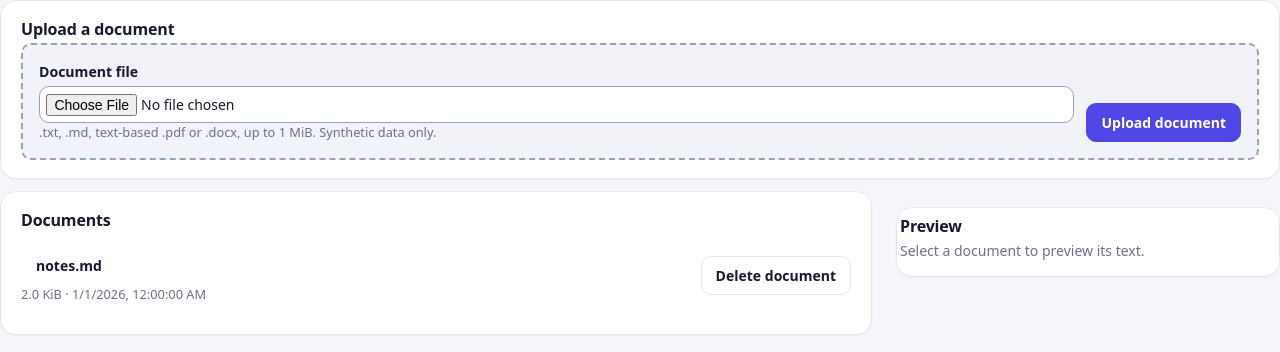
Test: DocumentsSection › shows no extraction note for plain text documents
Click the button "notes.md": x=69, y=266 21,246 -> 117,285
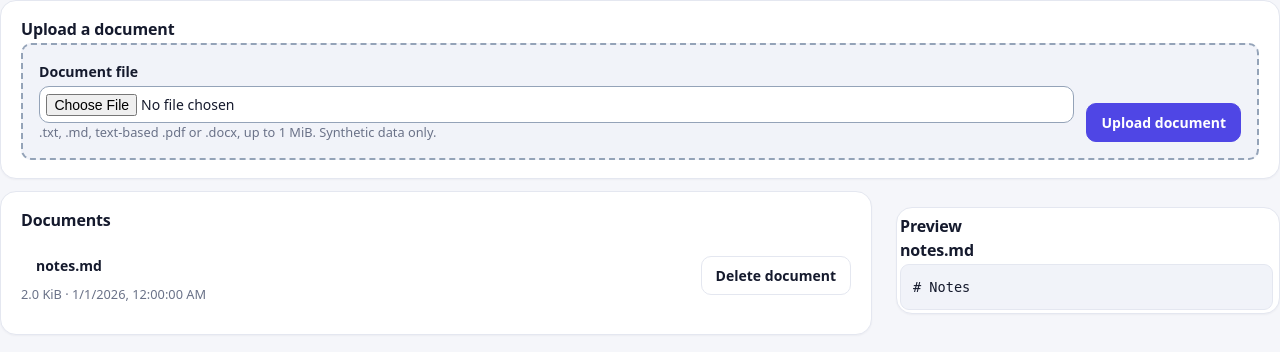
Result: the text "# Notes" is shown at 900,264 -> 1273,310
